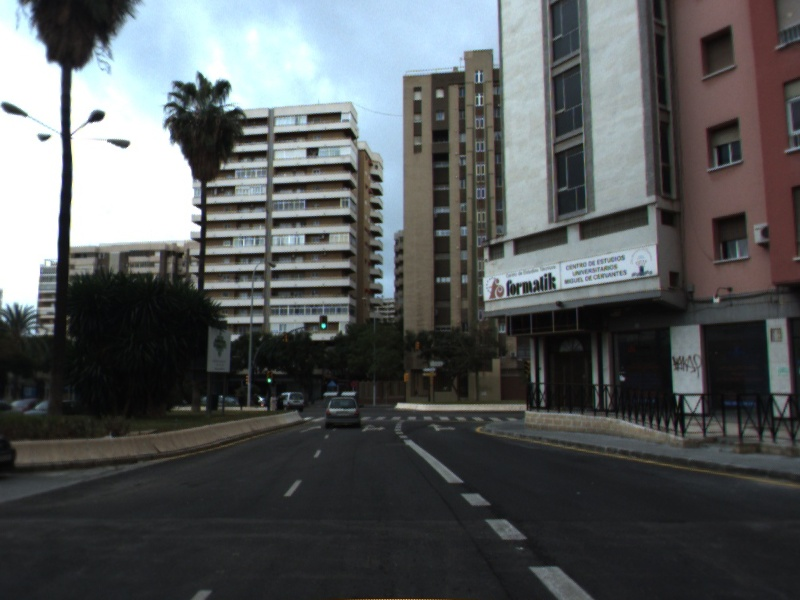STRAIGHT: (297, 424, 323, 435)
STRAIGHT_RIGHT: (425, 421, 458, 433), (360, 423, 388, 434)
